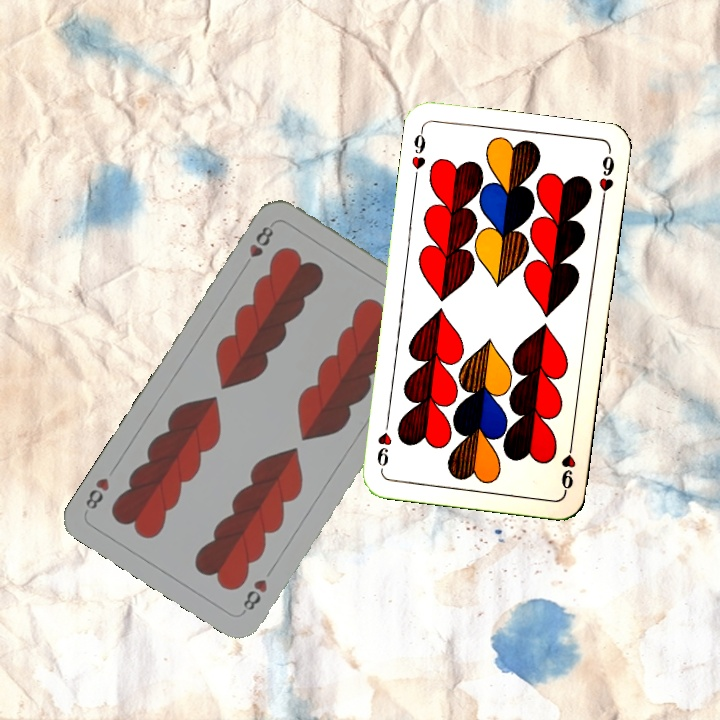H8: (237, 575, 270, 616), (245, 222, 276, 260)
H9: (557, 436, 579, 495), (407, 125, 428, 184)
